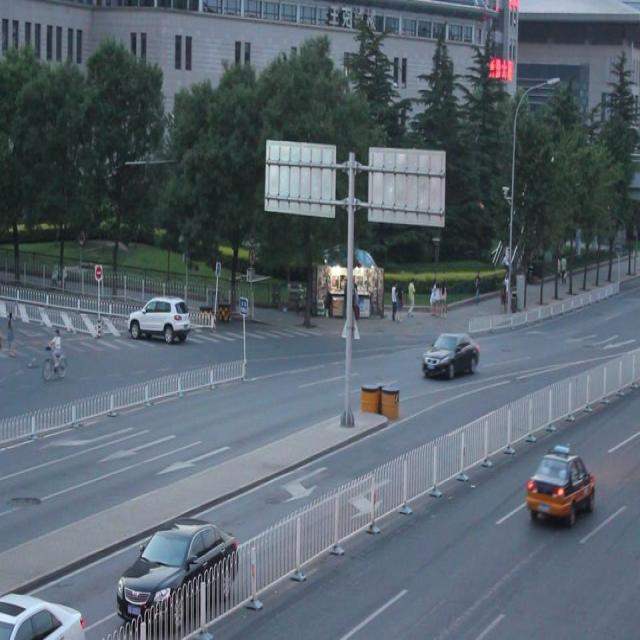car: (115, 516, 238, 619), (524, 445, 594, 522), (0, 583, 86, 640), (127, 292, 191, 344), (421, 327, 480, 382)
